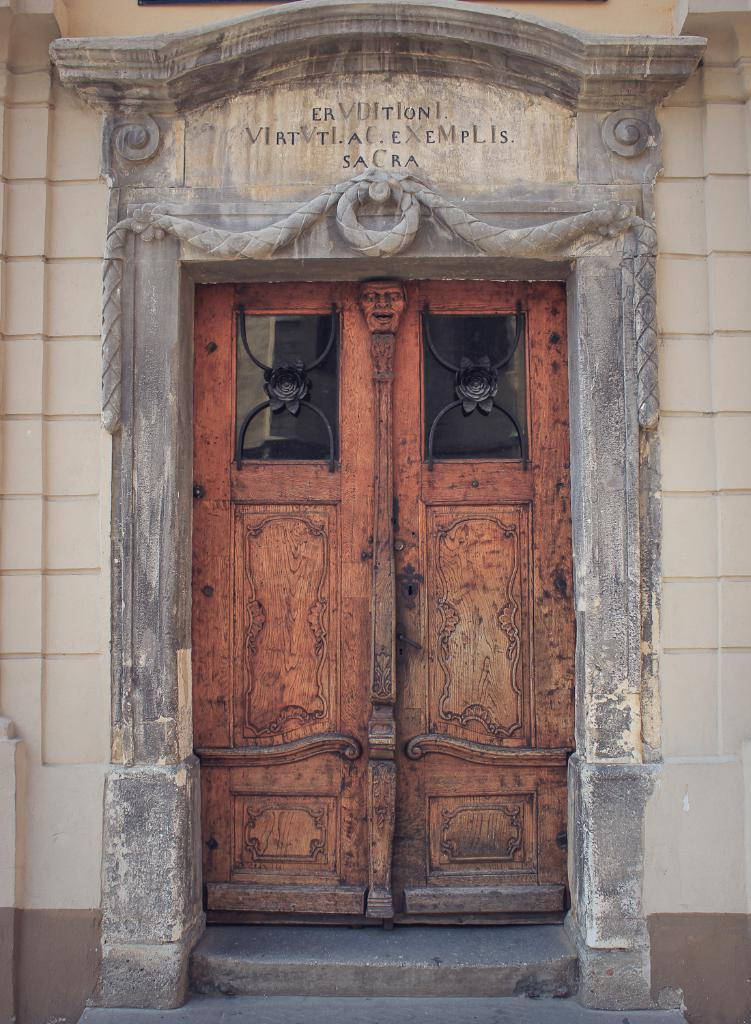handle: (396, 620, 425, 668)
